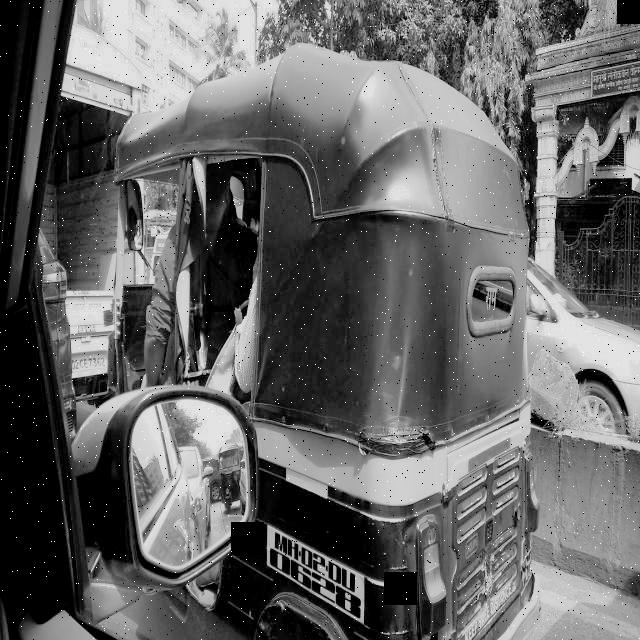Auto-Rickshaw: (113, 43, 552, 640), (214, 442, 250, 505)
